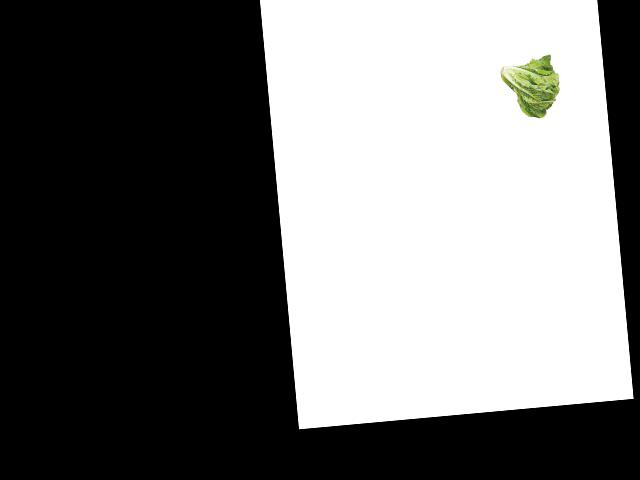lettuce: (495, 52, 564, 122)
